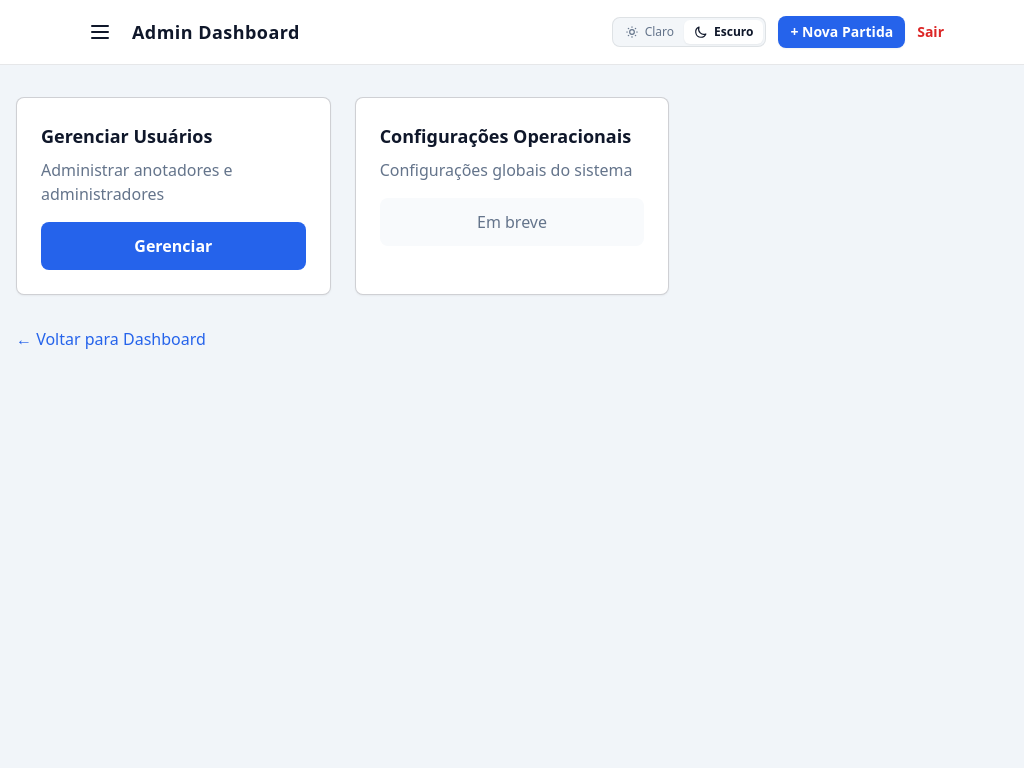
Test: AdminPage — confirmações com alertdialog (sem confirm() nativo) › Sair › abre o alertdialog em vez de window.confirm e só sai ao confirmar
Click the button "Sair": [931, 32] box [917,22,944,42]
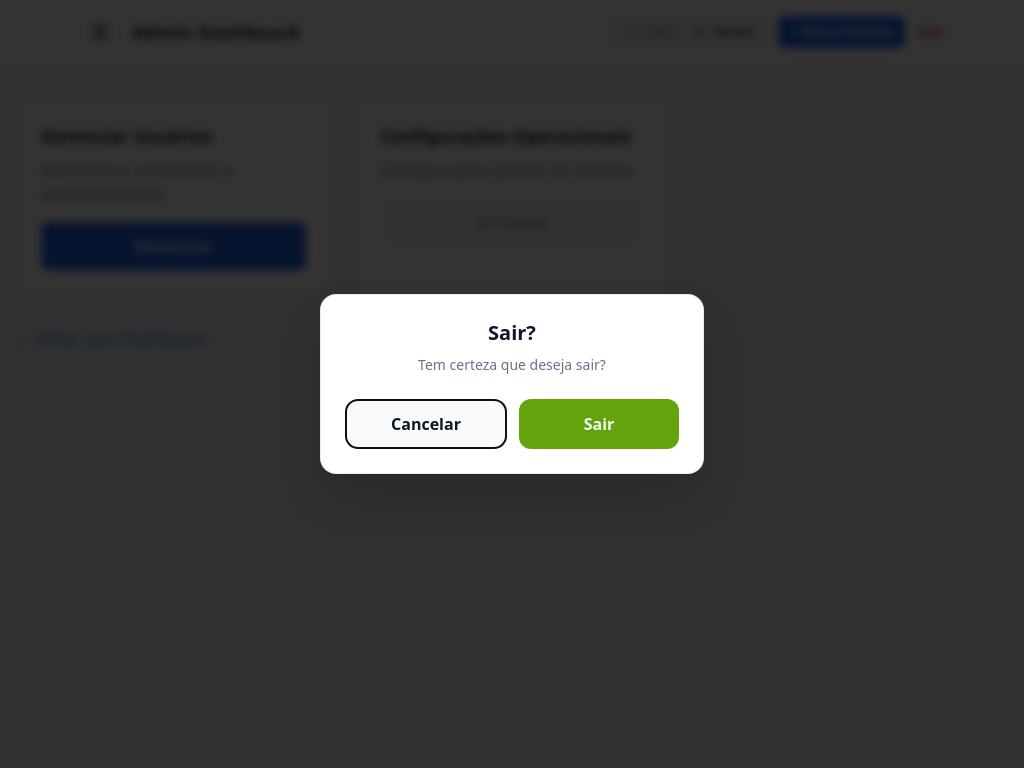
Click the button "Sair": [599, 424] box [519,399,679,449]
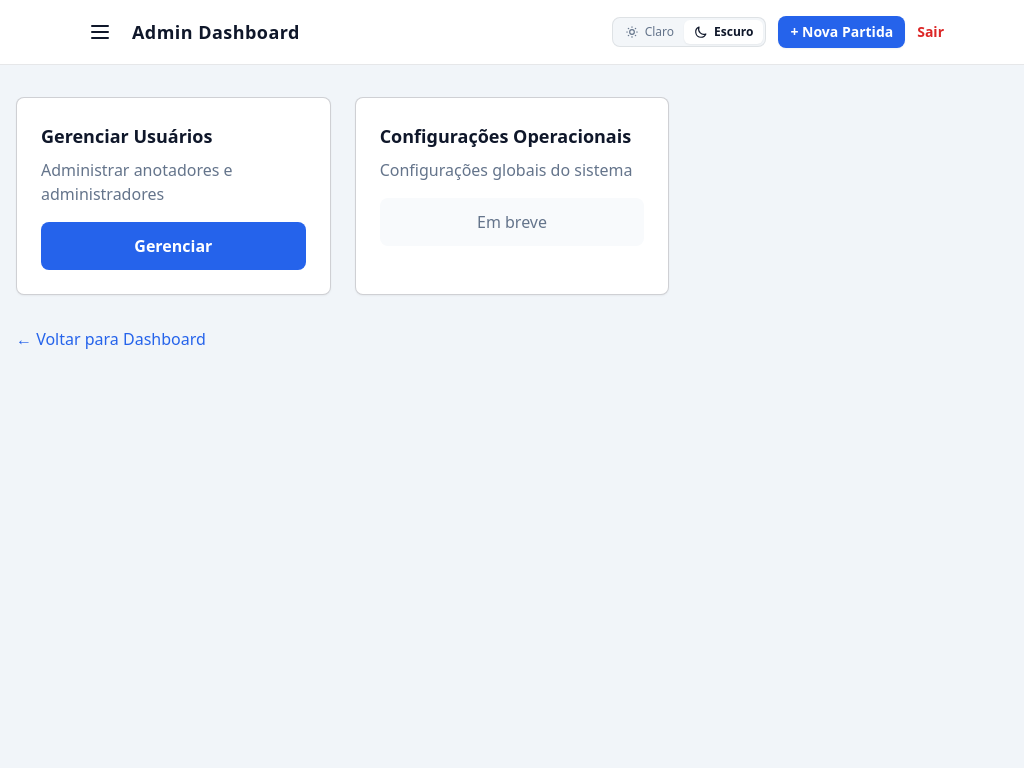
Expected: the dialog is gone
